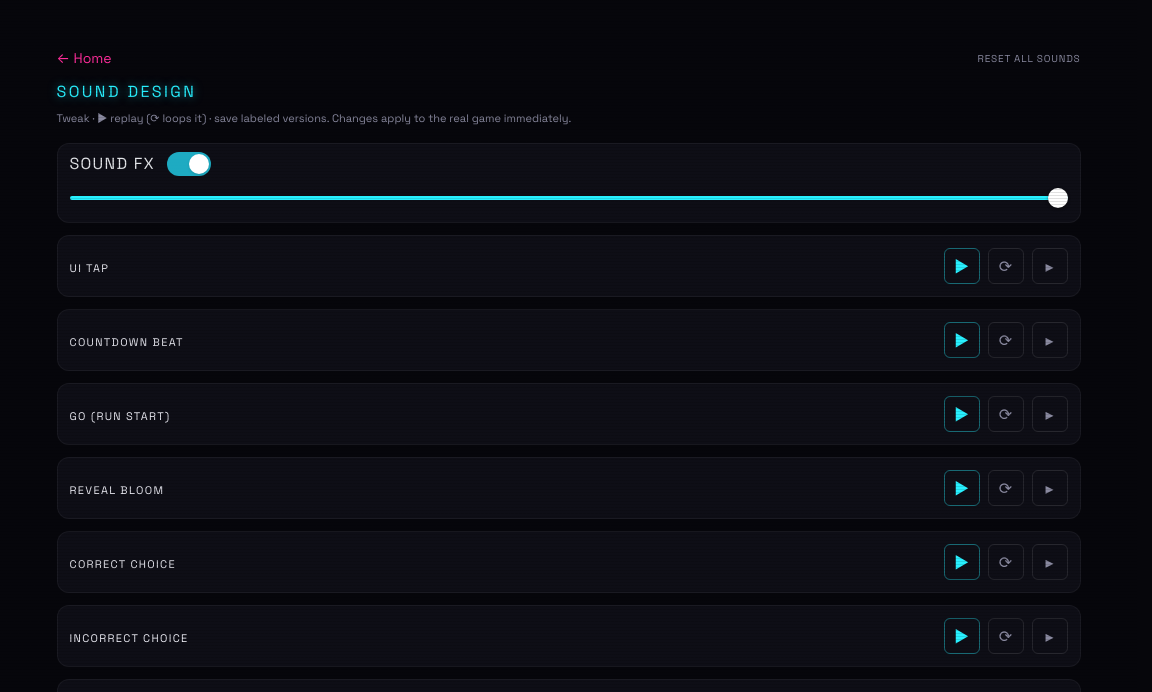
SoundDesignScreen › expanding a sound exposes its layer knobs
Click the button named "Expand Incorrect choice". click: [1050, 636]
box: top-left (1032, 618), bottom-right (1068, 654)
(page scrolled)
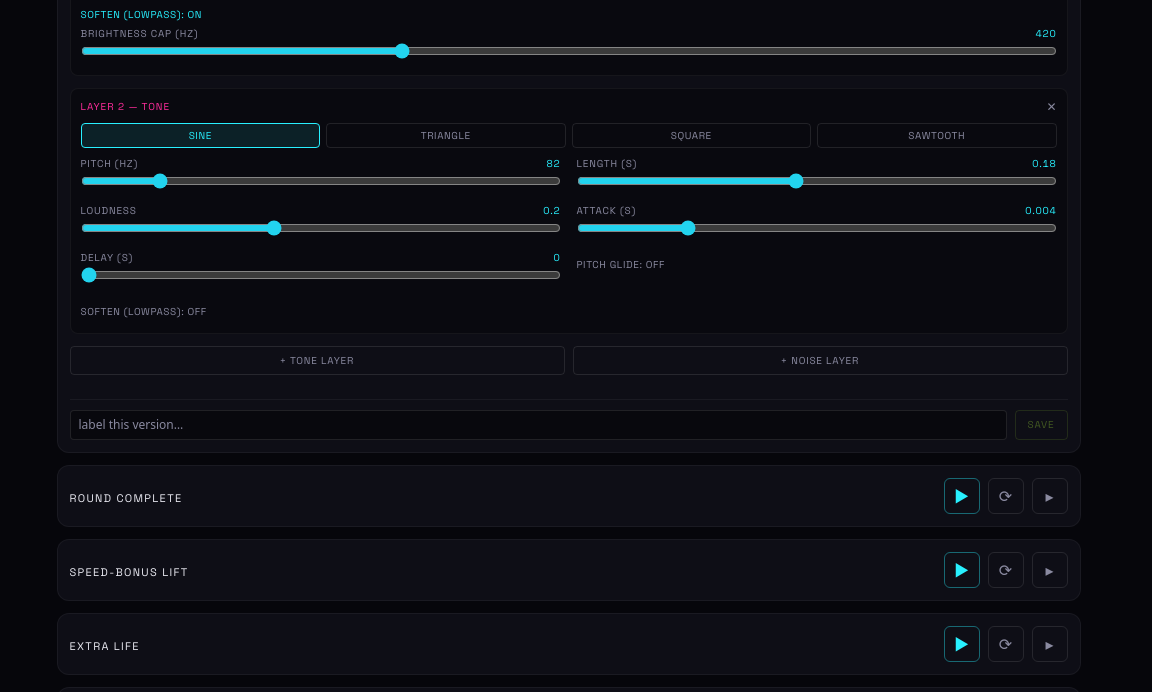
Expected: the text "Layer 2 — tone" is shown, top-left (80, 99), bottom-right (170, 114)
Expected: the button "+ tone layer" is shown, top-left (70, 346), bottom-right (564, 374)
